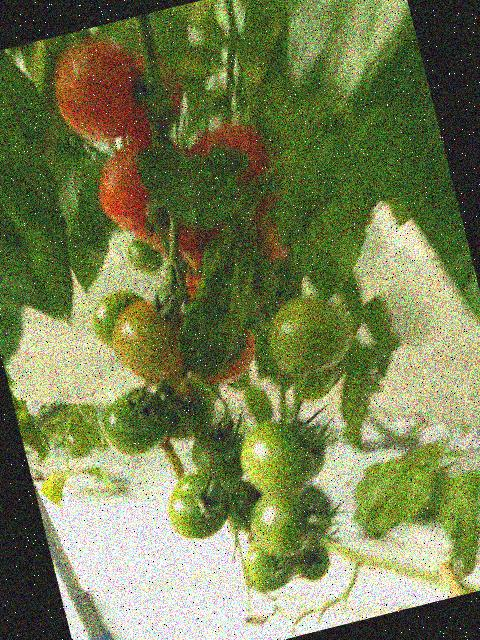l_fully_ripened: (45, 31, 159, 150), (89, 130, 194, 235), (180, 118, 274, 195)
l_green: (233, 410, 332, 506), (260, 286, 358, 382), (95, 382, 180, 464), (159, 465, 239, 546), (244, 484, 319, 563), (155, 371, 222, 446), (185, 419, 255, 490), (86, 286, 156, 351), (239, 531, 299, 595), (224, 477, 271, 537), (299, 479, 340, 541), (291, 537, 334, 585), (124, 231, 167, 278)
l_half_ripened: (103, 290, 200, 393)
